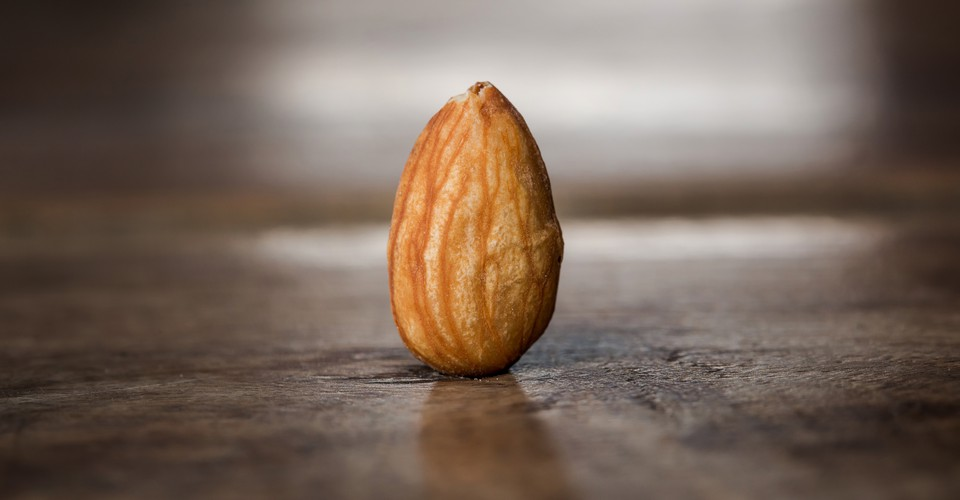almond: (389, 80, 565, 380)
